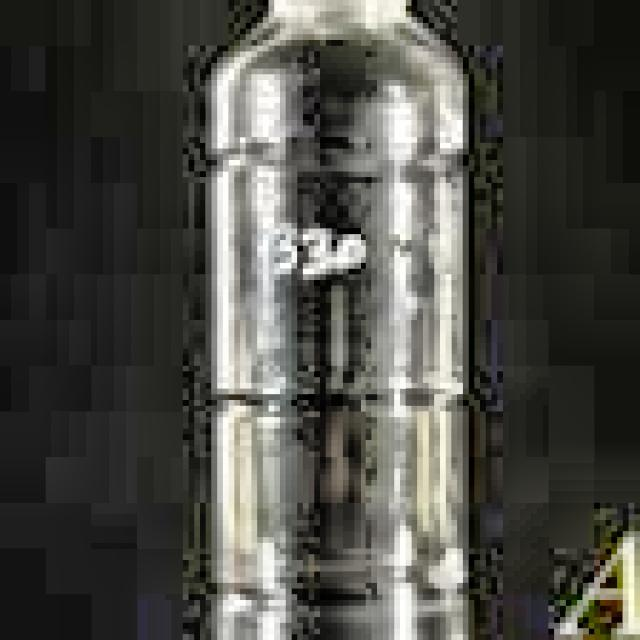plastic: (126, 0, 577, 640)
